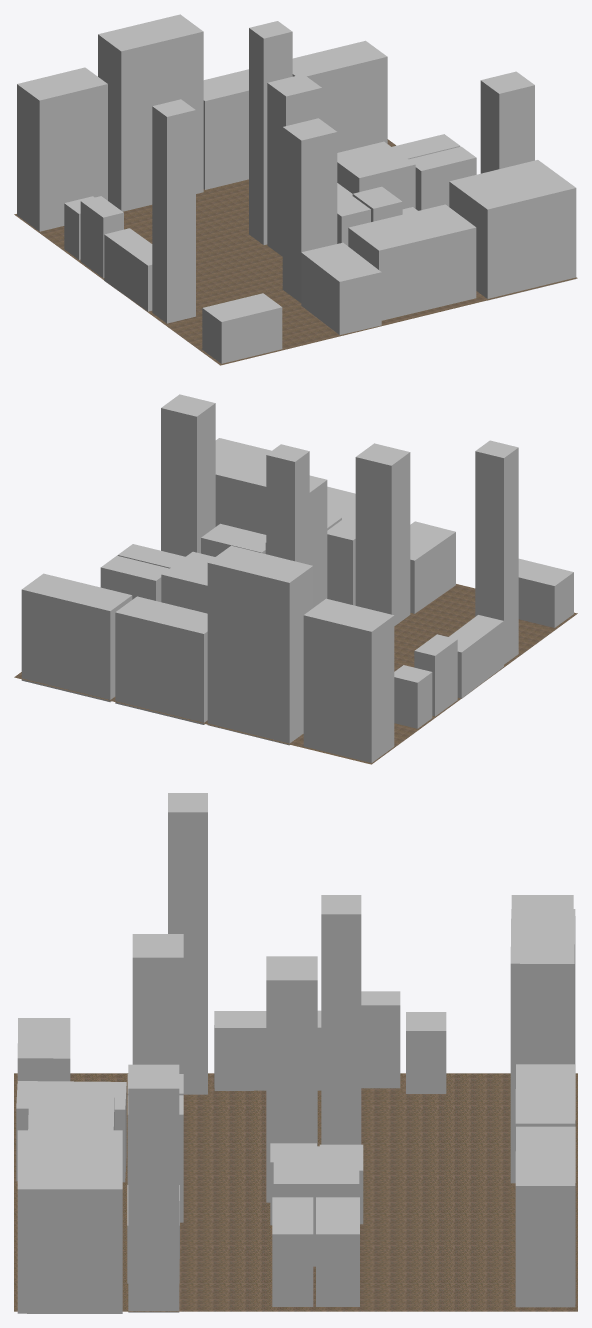
The picture shows the model from 3 angles, top to bottom: view 1: azimuth 30°, elevation 25°; view 2: azimuth 150°, elevation 25°; view 3: azimuth 270°, elevation 25°; orthographic projection. The views are drawn at different scales.
Visible parts, largest first — view 1: Building.023, Building.015, Ground, Building.021, Building.005, Building.024, Building.014, Building.020, Building.025, Building.017, Building.022, Building.004 (+10 smaller); view 2: Building.023, Building.021, Building.020, Building.022, Building.014, Building.024, Building.004, Ground, Building.017, Building.015, Building.025, Building.011 (+10 smaller); view 3: Ground, Building.015, Building.004, Building.020, Building.023, Building.017, Building.009, Building.024, Building.014, Building.019, Building.006, Building.016 (+9 smaller).
Boxes of the visible parts, bbox=[...] form: Building.023: bbox=[98, 14, 203, 211]; Building.015: bbox=[449, 160, 576, 300]; Ground: bbox=[14, 139, 577, 365]; Building.021: bbox=[17, 67, 107, 231]; Building.005: bbox=[348, 204, 476, 320]; Building.024: bbox=[152, 99, 195, 323]; Building.014: bbox=[282, 118, 337, 302]; Building.020: bbox=[292, 40, 387, 152]; Building.025: bbox=[301, 242, 381, 334]; Building.017: bbox=[249, 21, 292, 244]; Building.022: bbox=[203, 69, 248, 189]; Building.004: bbox=[480, 71, 534, 173]; Building.023: bbox=[207, 545, 313, 745]; Building.021: bbox=[303, 598, 394, 762]; Building.020: bbox=[21, 573, 132, 702]; Building.022: bbox=[115, 596, 207, 724]; Building.014: bbox=[355, 443, 410, 626]; Building.024: bbox=[475, 440, 518, 664]; Building.004: bbox=[161, 394, 215, 556]; Ground: bbox=[14, 584, 577, 764]; Building.017: bbox=[266, 444, 309, 564]; Building.015: bbox=[215, 438, 271, 534]; Building.025: bbox=[410, 521, 455, 613]; Building.011: bbox=[518, 558, 573, 627]; Ground: bbox=[14, 1073, 577, 1311]; Building.015: bbox=[17, 1130, 122, 1313]; Building.004: bbox=[128, 1064, 179, 1312]; Building.020: bbox=[515, 1126, 575, 1307]; Building.023: bbox=[510, 909, 575, 1183]; Building.017: bbox=[321, 895, 361, 1144]; Building.009: bbox=[266, 956, 317, 1202]; Building.024: bbox=[168, 793, 207, 1094]; Building.014: bbox=[132, 934, 183, 1073]; Building.019: bbox=[316, 1197, 359, 1306]; Building.006: bbox=[273, 1146, 359, 1266]; Building.016: bbox=[214, 1010, 321, 1090].
Size of the model in its own units: 140 by 78.15 by 140.
